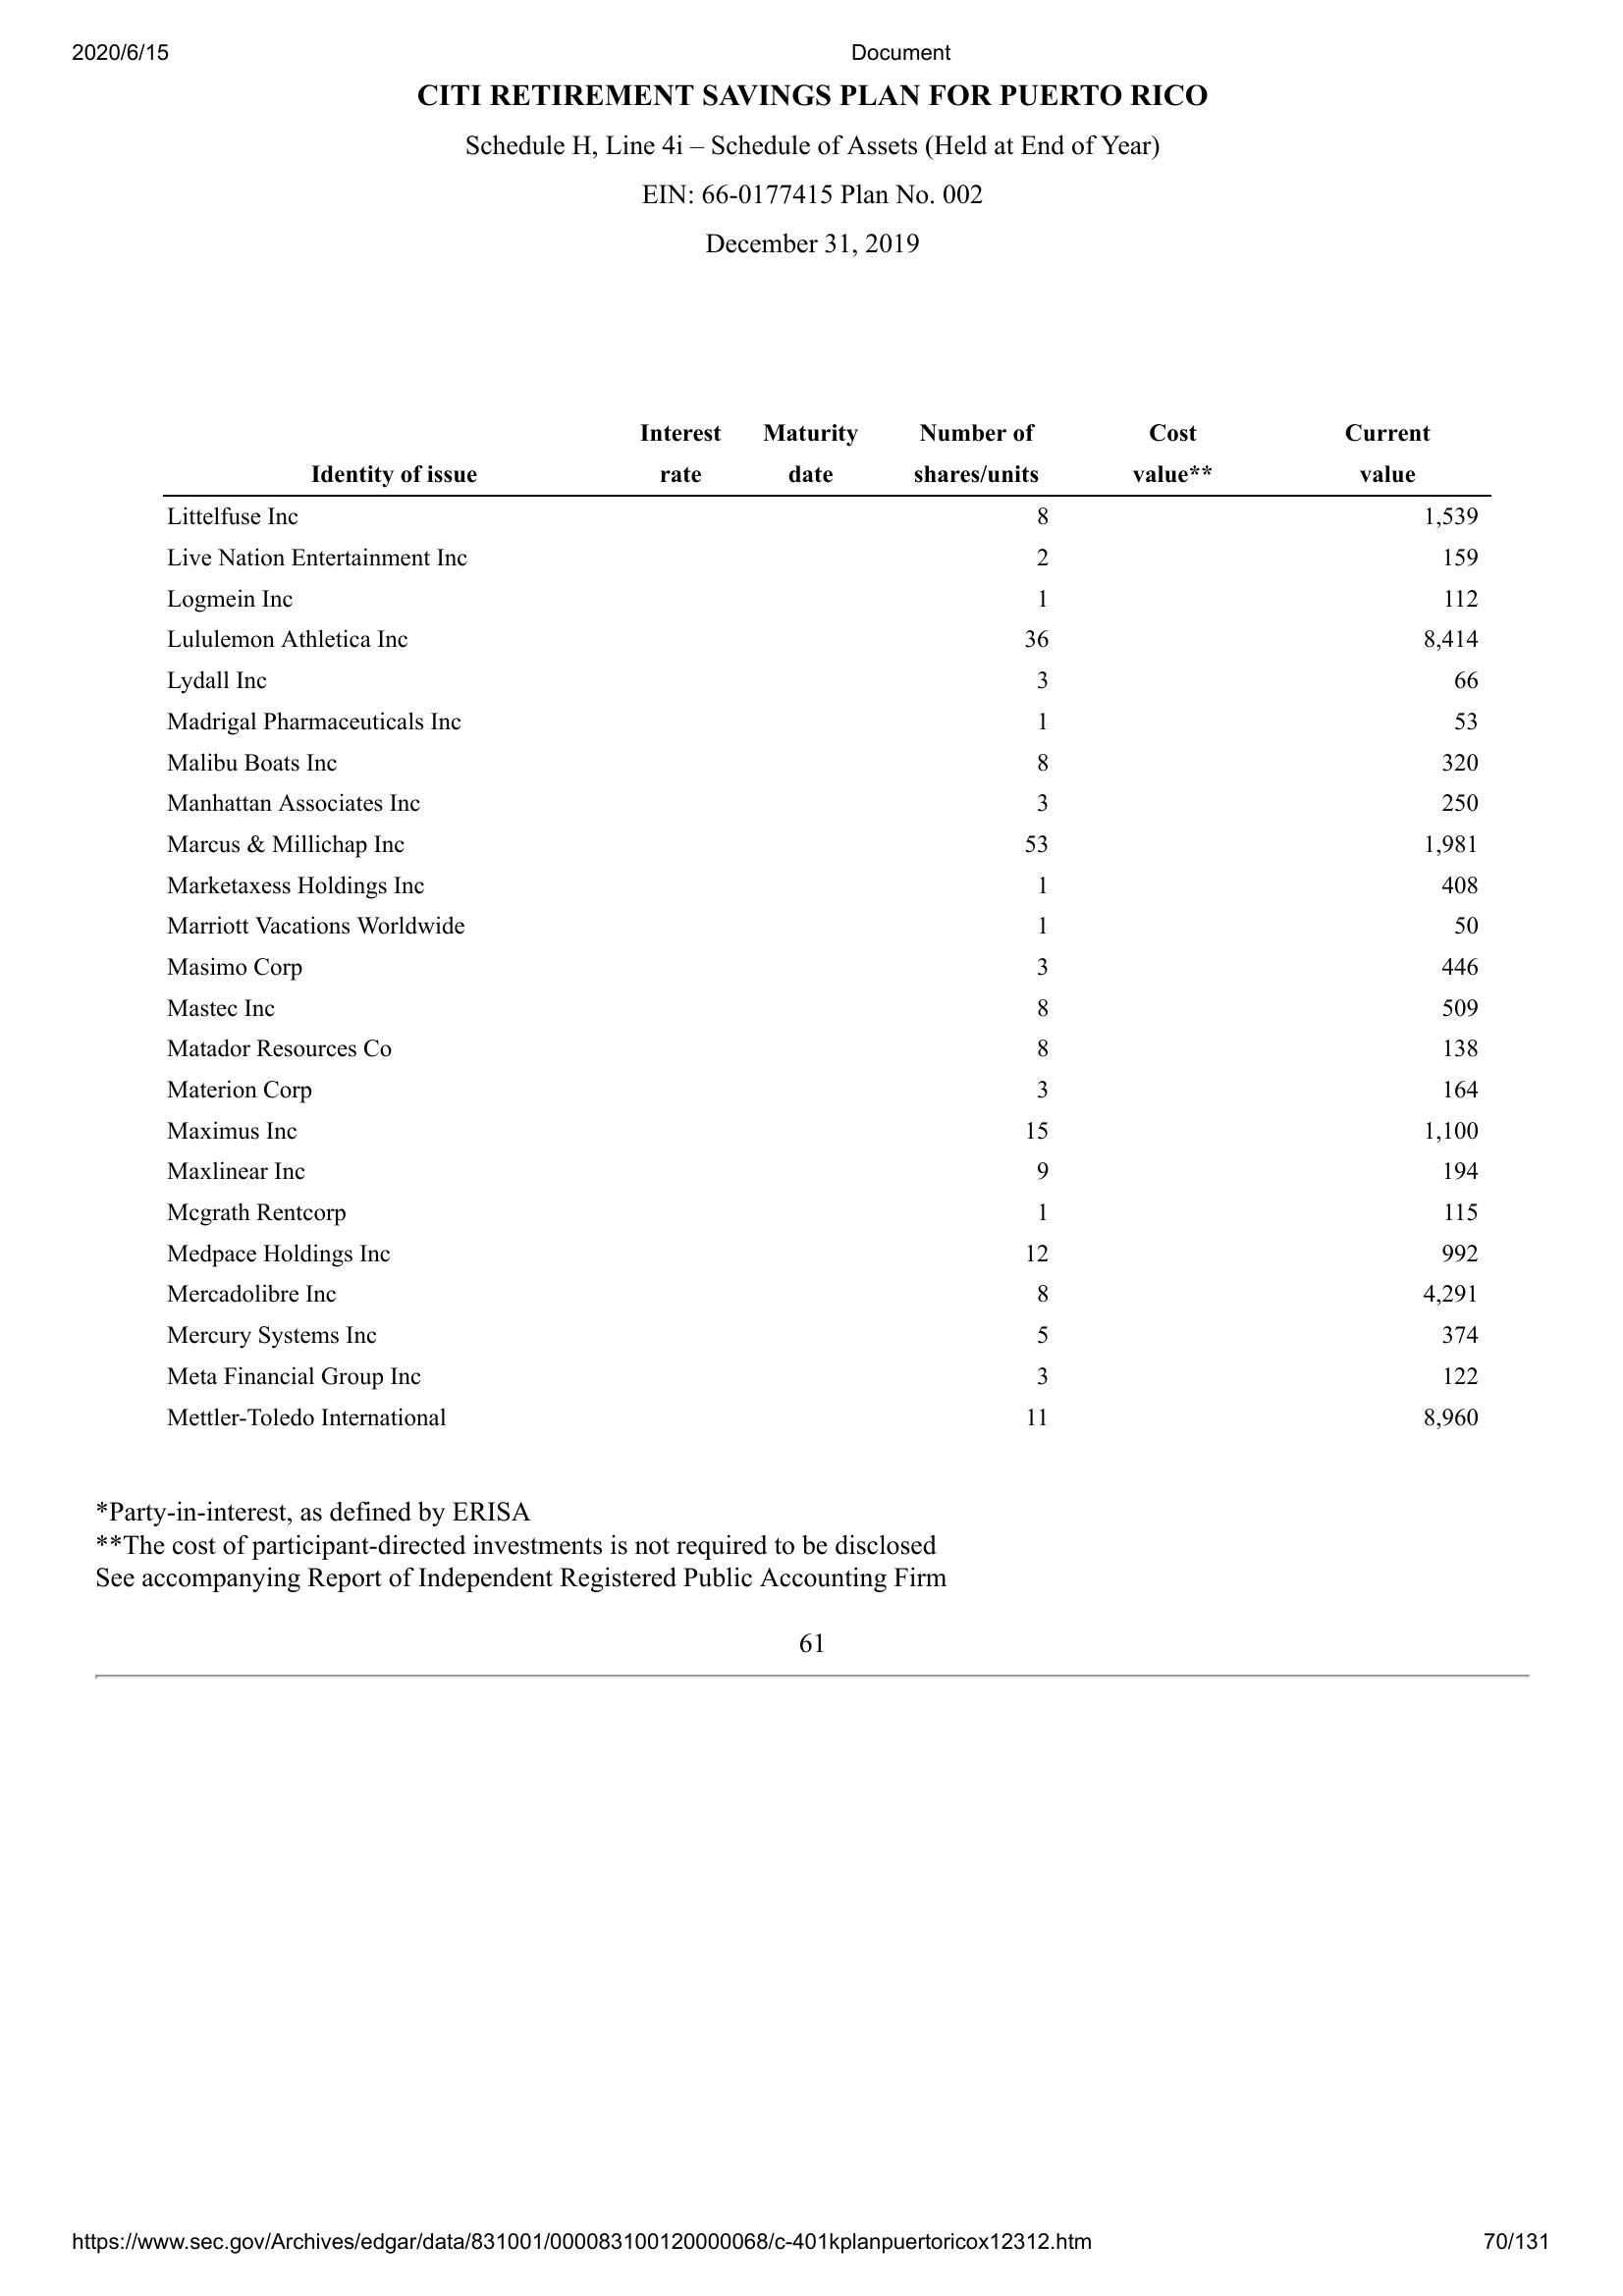table: (163, 418, 1493, 1436)
